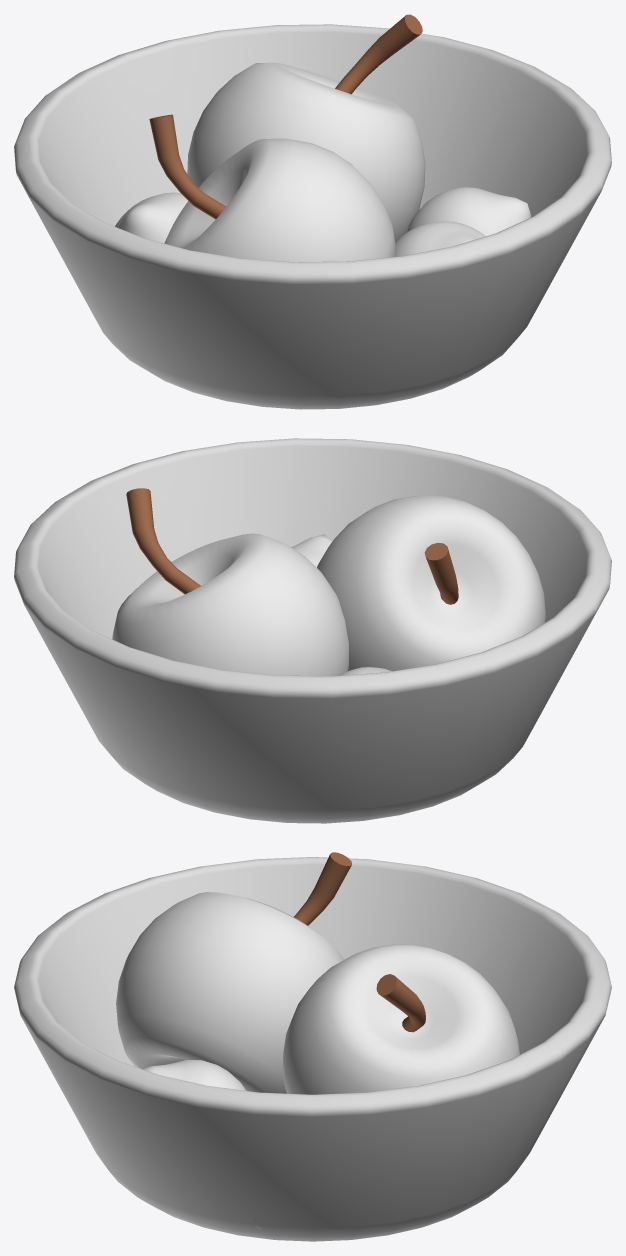
File: FruitBowl.fbx
3 views of the same model, one above another, from view 1: azimuth 30°, elevation 25°; view 2: azimuth 150°, elevation 25°; view 3: azimuth 270°, elevation 25° (orthographic).
Parts seen in each view (by area): view 1: Sphere.001; view 2: Sphere.001; view 3: Sphere.001.
Part boxes in pixels (bbox=[...]): Sphere.001: bbox=[14, 14, 611, 409]; Sphere.001: bbox=[14, 438, 611, 823]; Sphere.001: bbox=[14, 852, 611, 1241].
Size of the model in its own units: 67.01 by 31.98 by 67.01.
